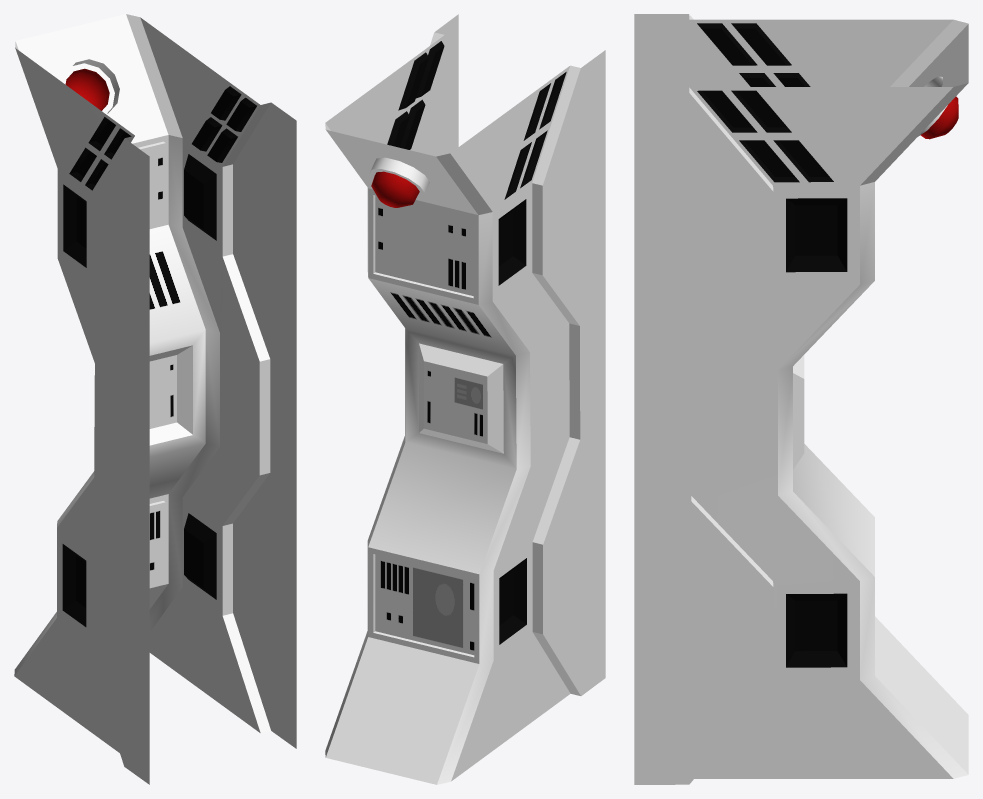
The model's file is Divider.FBX.
The picture shows the model from 3 angles, left to right: view 1: azimuth 30°, elevation 25°; view 2: azimuth 150°, elevation 25°; view 3: azimuth 270°, elevation 25°; orthographic projection. The views are drawn at different scales.
Parts seen in each view (by area): view 1: Plane096; view 2: Plane096; view 3: Plane096.
Part boxes in pixels (<box>): Plane096: <box>14,14,296,784</box>; Plane096: <box>325,14,605,784</box>; Plane096: <box>634,14,968,784</box>.
Size of the model in its own units: 20.52 by 83.62 by 36.64.
